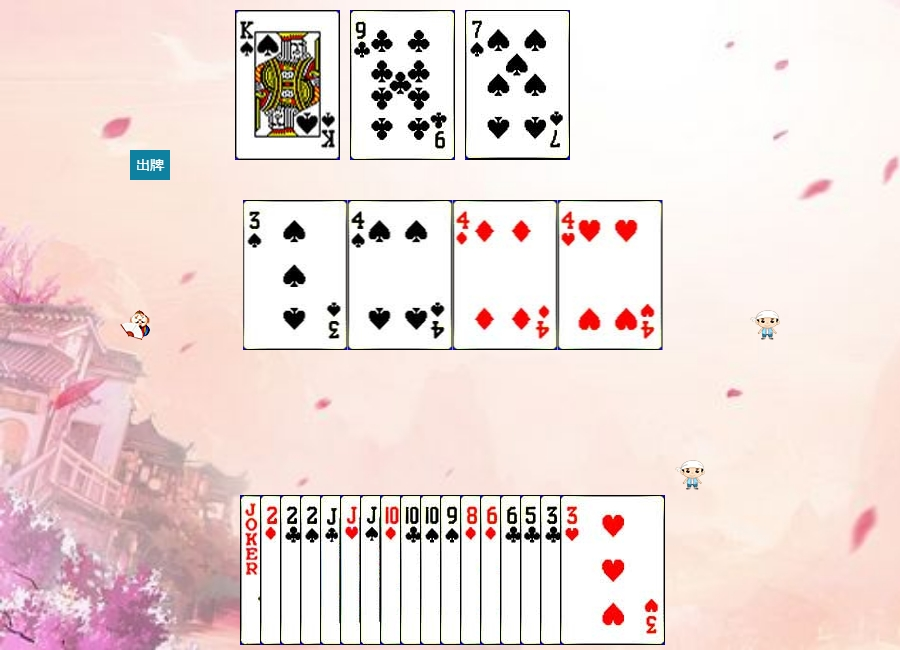10~1: (380, 495, 485, 645)
10~2: (400, 495, 505, 645)
10~4: (420, 495, 525, 645)
11~2: (320, 495, 425, 645)
11~3: (340, 495, 445, 645)
11~4: (360, 495, 465, 645)
13~4: (235, 10, 340, 160)
15~1: (260, 495, 365, 645)
15~2: (280, 495, 385, 645)
15~4: (300, 495, 405, 645)
18~4: (240, 495, 345, 645)
3~2: (540, 495, 645, 645)
3~3: (560, 495, 665, 645)
3~4: (243, 200, 348, 350)
4~1: (453, 200, 558, 350)
4~3: (558, 200, 663, 350)
4~4: (348, 200, 453, 350)
5~2: (520, 495, 625, 645)
6~1: (480, 495, 585, 645)
6~2: (500, 495, 605, 645)
7~4: (465, 10, 570, 160)
8~1: (460, 495, 565, 645)
9~2: (350, 10, 455, 160)
9~4: (440, 495, 545, 645)
